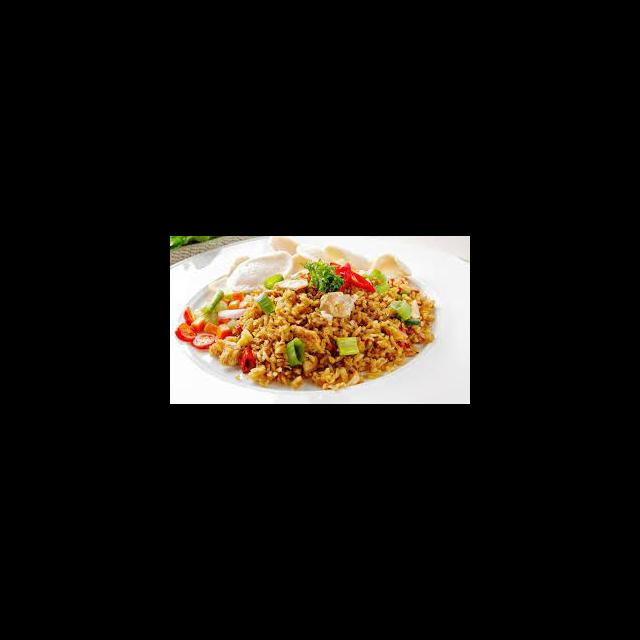food_waste: (236, 269, 396, 360)
